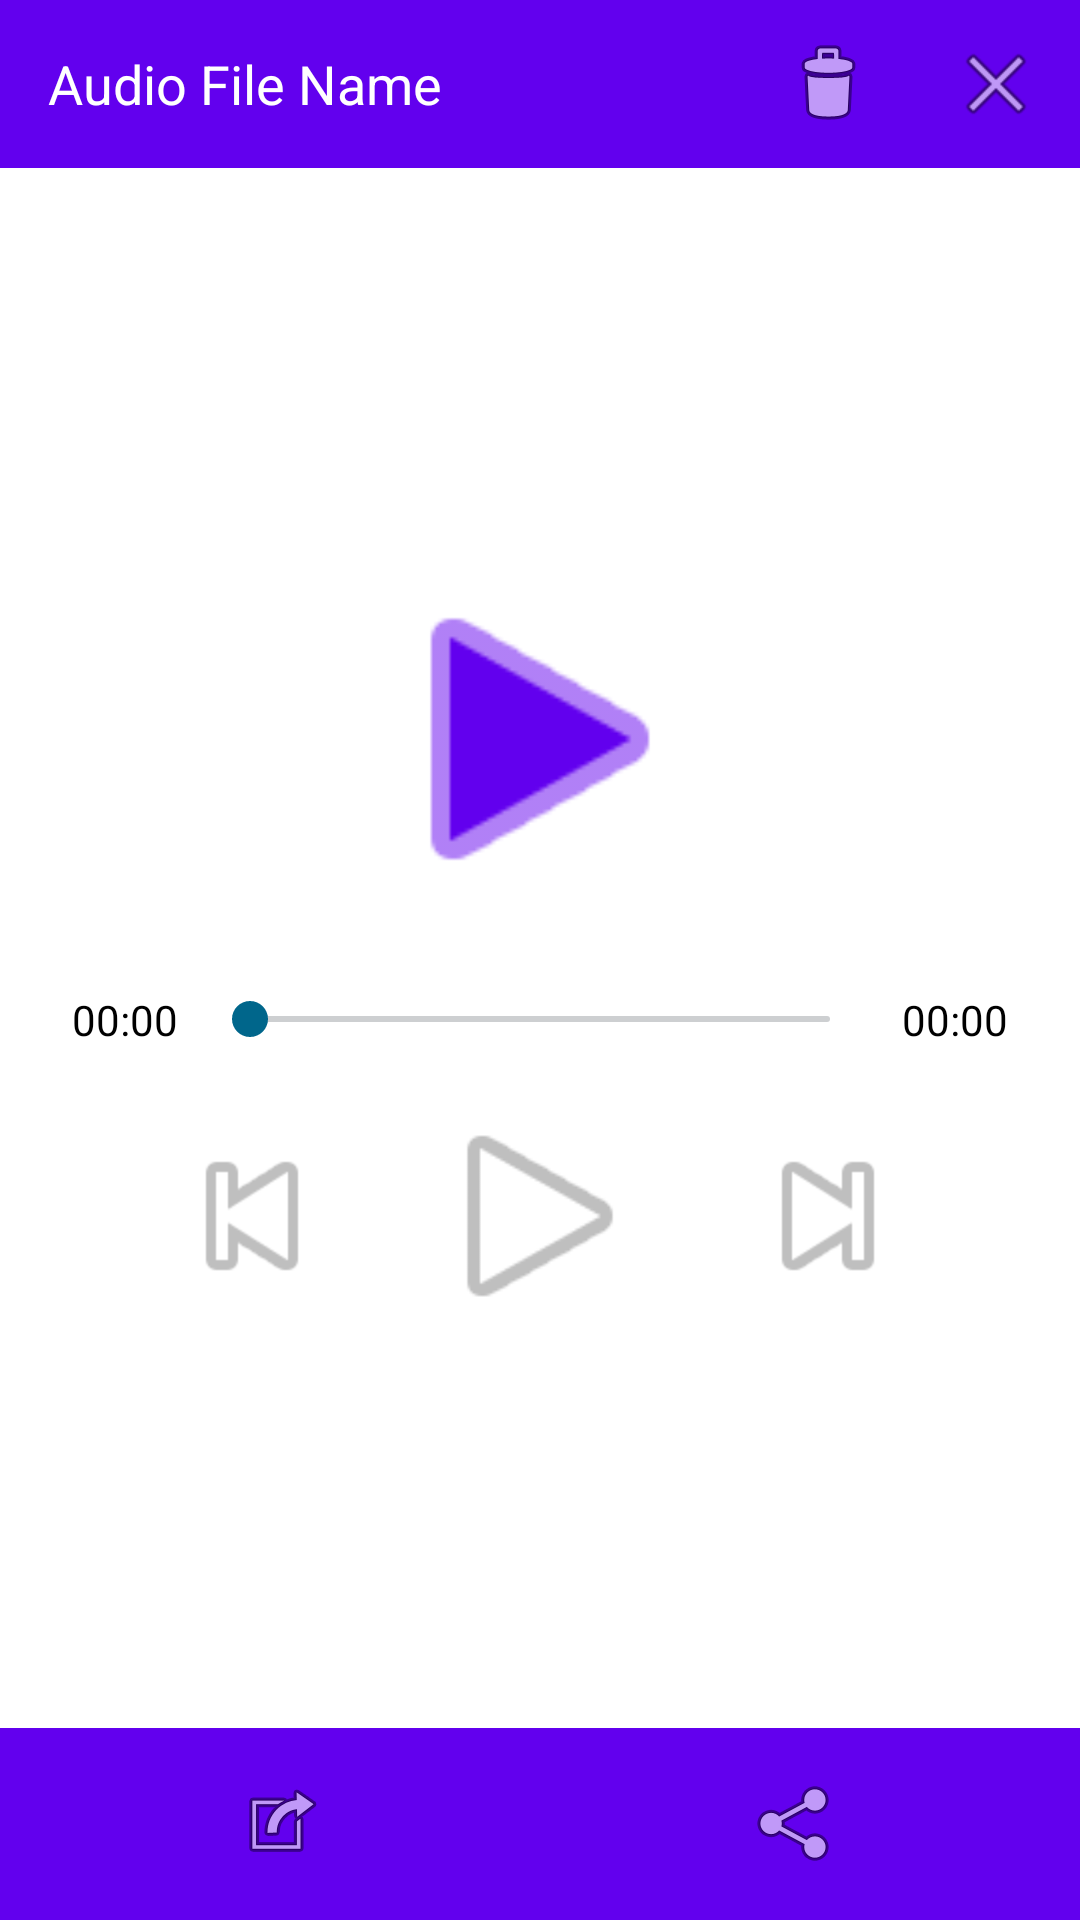

Locate icon controls on the screen. Image size 1080×1920, boxes as [left=x1, top=y1, right=x2, bottom=y2].
Close Audio Player: [left=966, top=54, right=1026, bottom=114]
Delete Audio: [left=801, top=45, right=856, bottom=120]
next: [left=782, top=1162, right=874, bottom=1270]
Open With: [left=249, top=1789, right=317, bottom=1852]
play: [left=430, top=618, right=650, bottom=860], [left=467, top=1136, right=613, bottom=1296]
previous: [left=206, top=1162, right=298, bottom=1270]
Share: [left=757, top=1786, right=829, bottom=1861]
